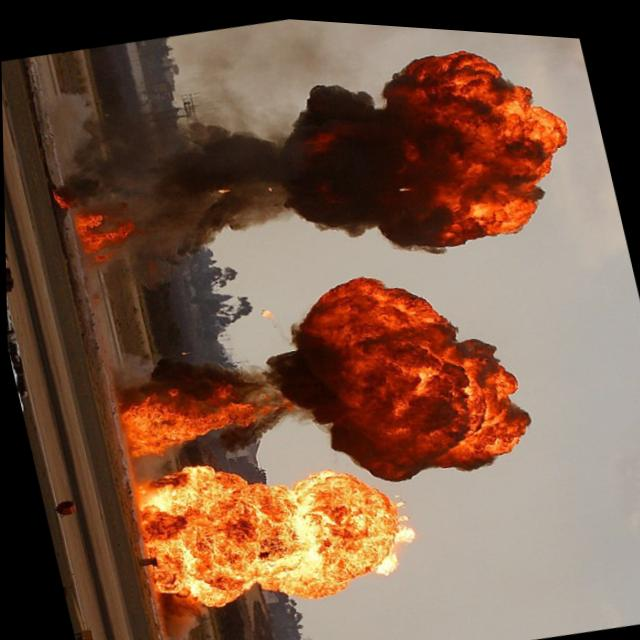Fire: (309, 245, 546, 501), (127, 449, 402, 635), (398, 69, 557, 253), (108, 374, 266, 476), (58, 175, 152, 272)
